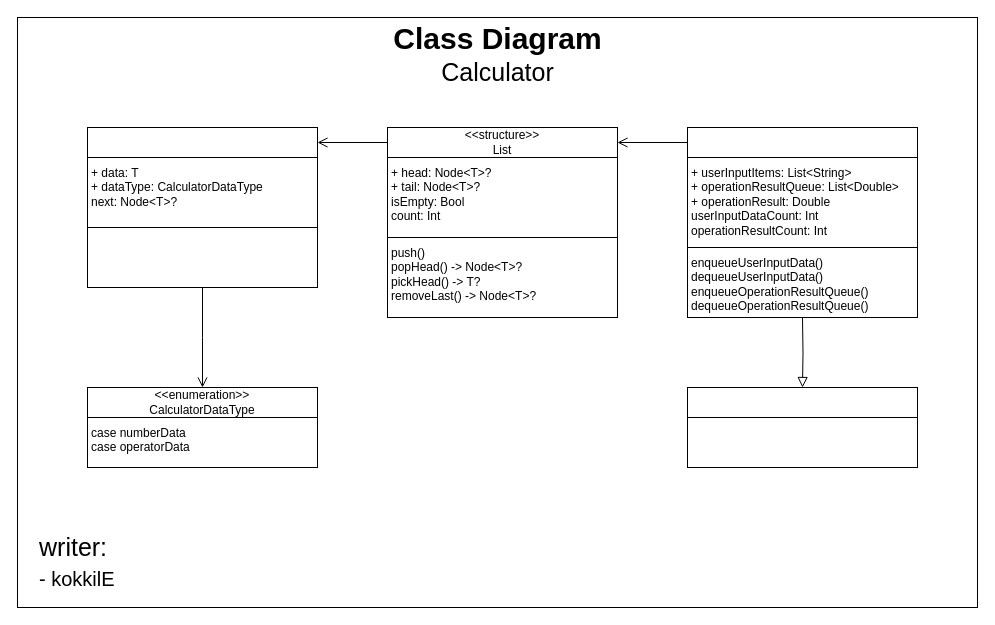
Image size: 995x625. Some labels were removed from this diagram. The centre of each missing label's shape, as x and y in pixels:
<<class>> Node<T>: point (202, 142)
<<protocol>> CalculateItem: point (802, 402)
<<structure>> CalculatorItemQueue: CalculateItem: point (802, 142)
init() == () -> Bool: point (202, 257)
